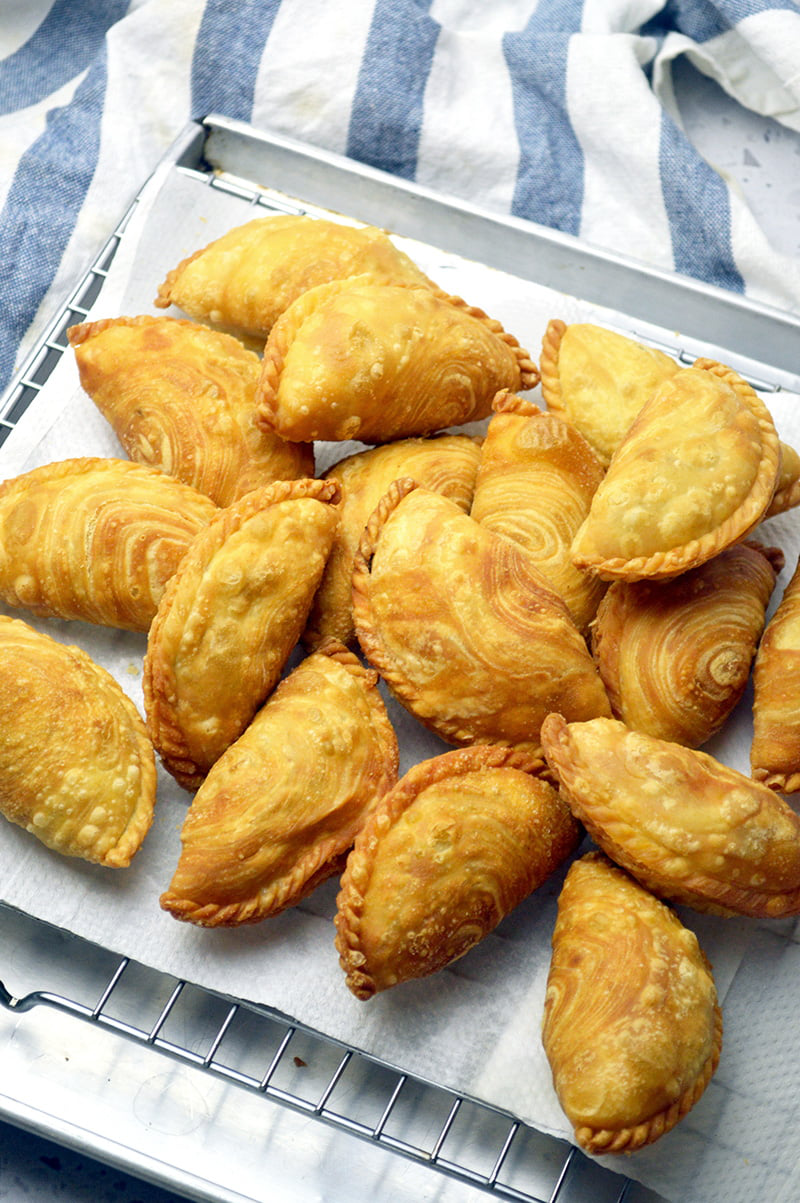Curry Puff: (330, 718, 571, 1011), (324, 479, 593, 741), (157, 629, 382, 930), (526, 857, 738, 1174), (146, 458, 332, 788), (521, 707, 790, 932), (539, 304, 799, 518), (568, 338, 782, 592), (65, 296, 298, 500), (259, 269, 521, 439), (0, 613, 136, 867), (0, 453, 214, 612), (146, 217, 452, 313)
